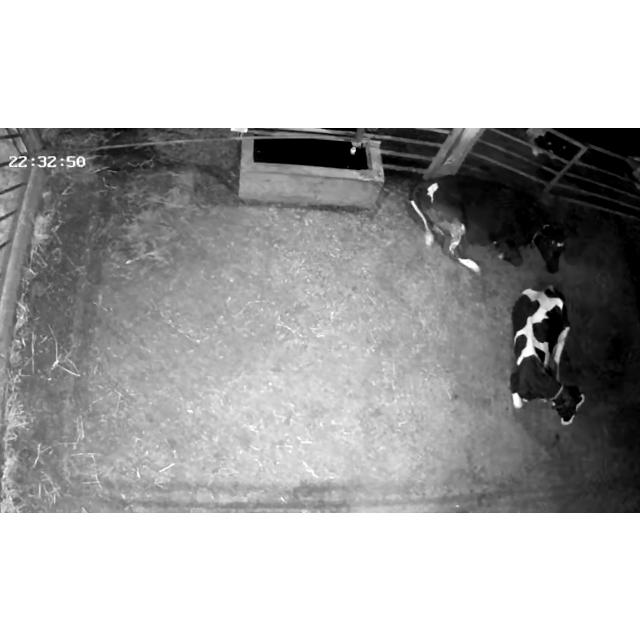lay: (404, 170, 574, 280), (504, 279, 590, 431)
